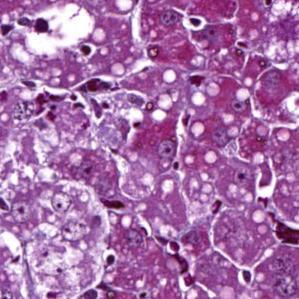ballooning: (15, 4, 99, 58)
